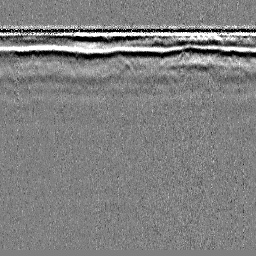cavity: (116, 59, 138, 81)
